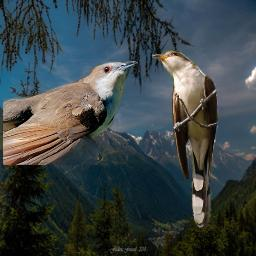Cuckoo: (3, 61, 138, 165), (152, 50, 219, 229)
